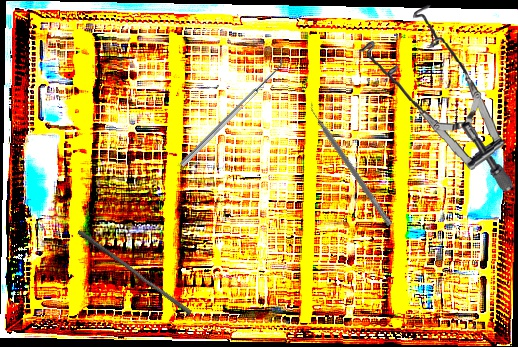Pusher: (73, 229, 196, 316)
Spatula Surgical: (175, 55, 288, 168), (303, 99, 398, 227)
Speculum: (356, 0, 514, 201)
